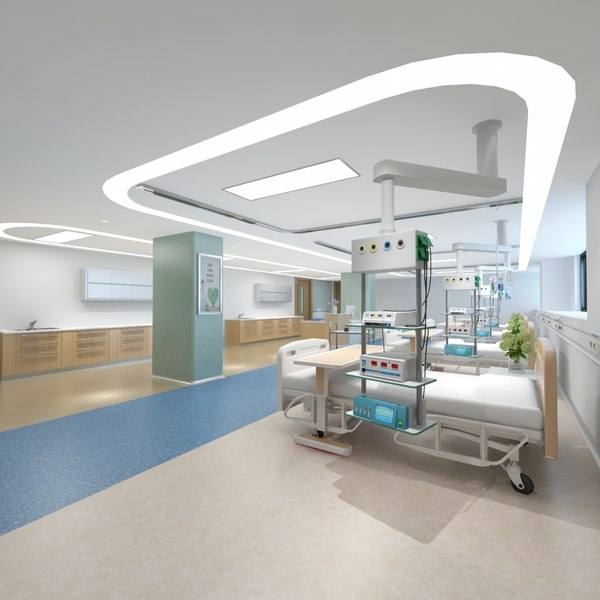countertop: (1, 322, 152, 335), (225, 316, 305, 320)
faucet: (29, 319, 38, 329), (238, 312, 244, 321)
hospital_bed: (275, 336, 559, 487), (382, 321, 535, 375), (448, 305, 475, 317)
overbed_table: (292, 342, 397, 457), (397, 328, 444, 355)
utility_cart: (327, 320, 377, 349)
